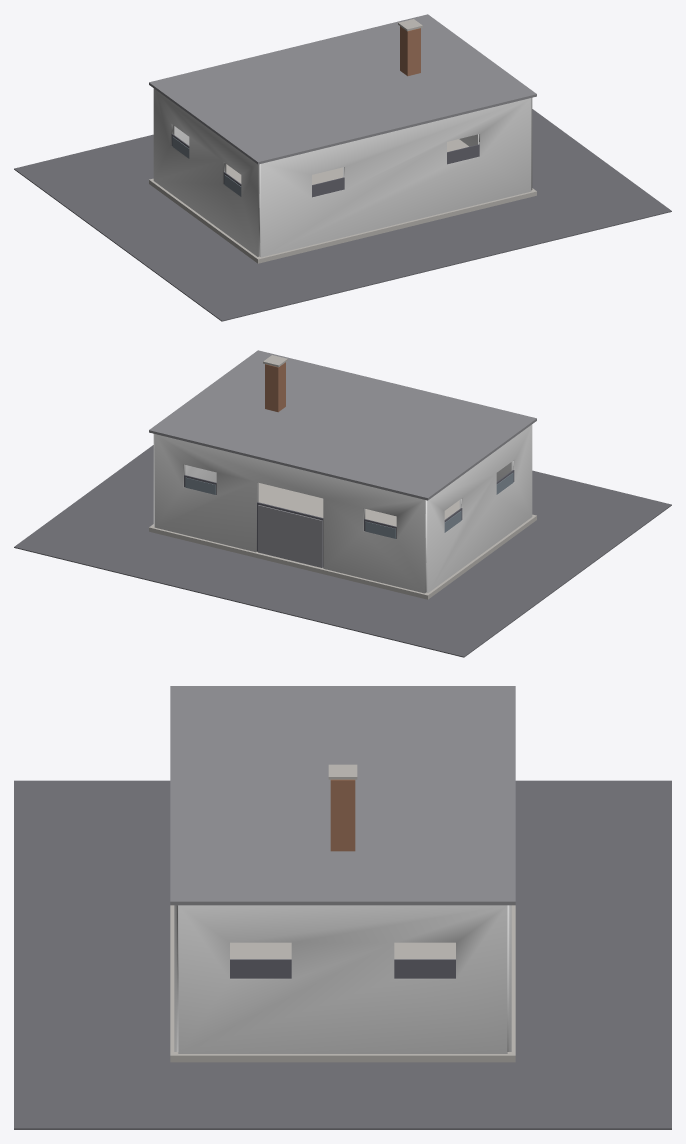
File: factory_small.glb
The picture shows the model from 3 angles, top to bottom: view 1: azimuth 30°, elevation 25°; view 2: azimuth 150°, elevation 25°; view 3: azimuth 270°, elevation 25°; orthographic projection. The views are drawn at different scales.
Visible parts, largest first — view 1: ground, roof, back_wall, left_wall, foundation, chimney, floor; view 2: ground, roof, front_wall, left_wall, panel, foundation, floor, chimney, right_wall; view 3: ground, roof, right_wall, foundation, frame (×2), floor, chimney, front_wall, back_wall.
Boxes of the visible parts, x1,y1,x2,y2 form: ground: (14, 109, 671, 321); roof: (149, 14, 536, 164); back_wall: (260, 98, 531, 257); left_wall: (153, 88, 259, 256); foundation: (149, 178, 536, 263); chimney: (400, 26, 420, 76); floor: (226, 139, 468, 184); ground: (14, 445, 671, 657); roof: (149, 350, 536, 500); front_wall: (154, 434, 425, 593); left_wall: (426, 424, 532, 592); panel: (258, 505, 322, 567); foundation: (149, 514, 536, 599); floor: (258, 483, 459, 526); chimney: (265, 362, 285, 412); right_wall: (153, 434, 216, 526); ground: (14, 780, 671, 1129); roof: (170, 686, 515, 905); right_wall: (178, 905, 507, 1053); foundation: (170, 905, 515, 1062); frame (×2): (230, 959, 455, 978); floor: (230, 942, 455, 959); chimney: (330, 779, 355, 851); front_wall: (507, 905, 511, 1051); back_wall: (174, 905, 178, 1051).
Size of the model in its own units: 20 by 7.07 by 16.
